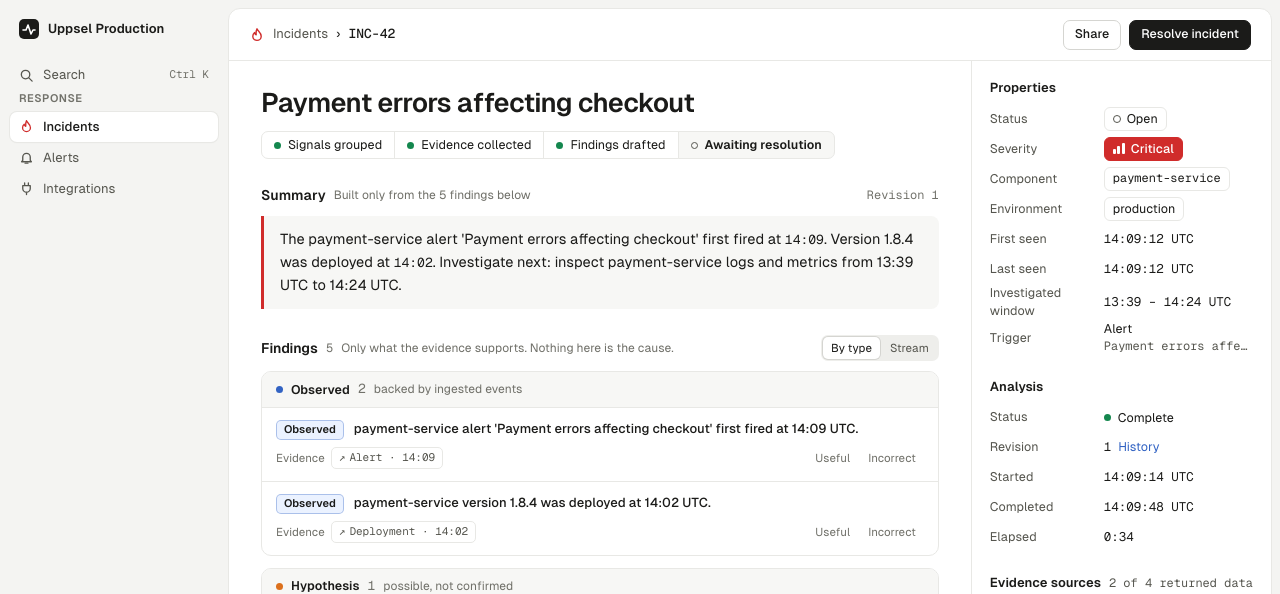
Scenario: incident detail › resolve needs a note, then posts it
This screenshot has width=1280, height=594.
Click the button "Resolve incident" at (1190, 34), box [1129,20,1251,50]
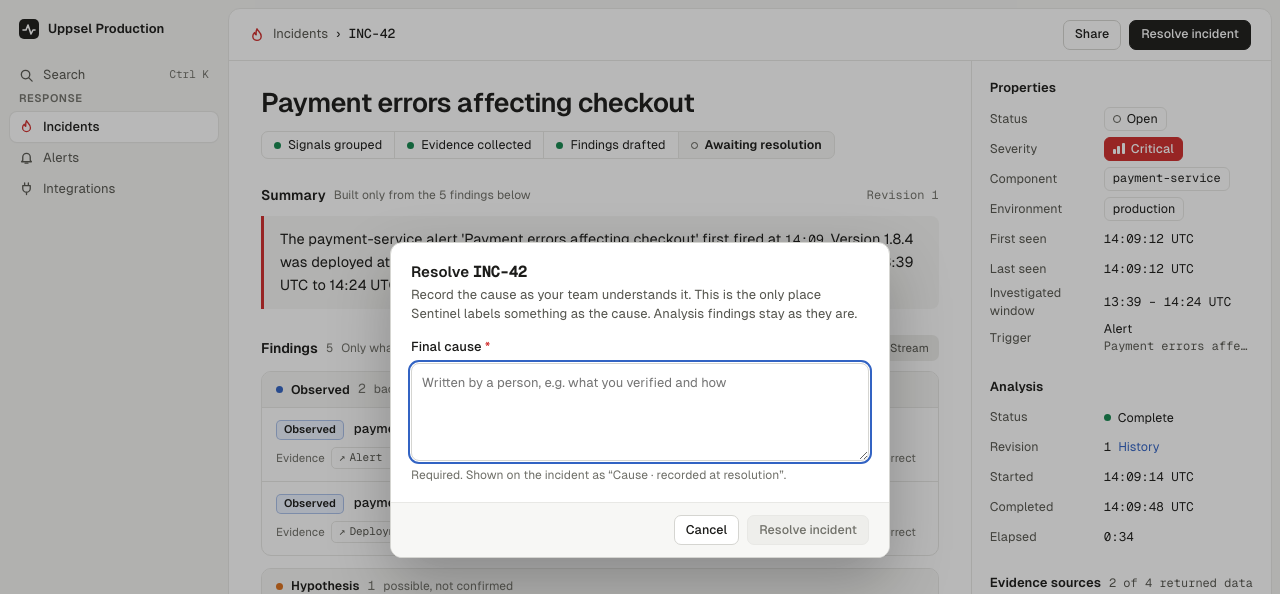
Result: the button "Resolve incident" is disabled at [747,515,869,545]
Type "Gateway timeout lowered in 1.8.4" into the text box labelled "Final cause *" at (640, 412), box [411,363,869,461]
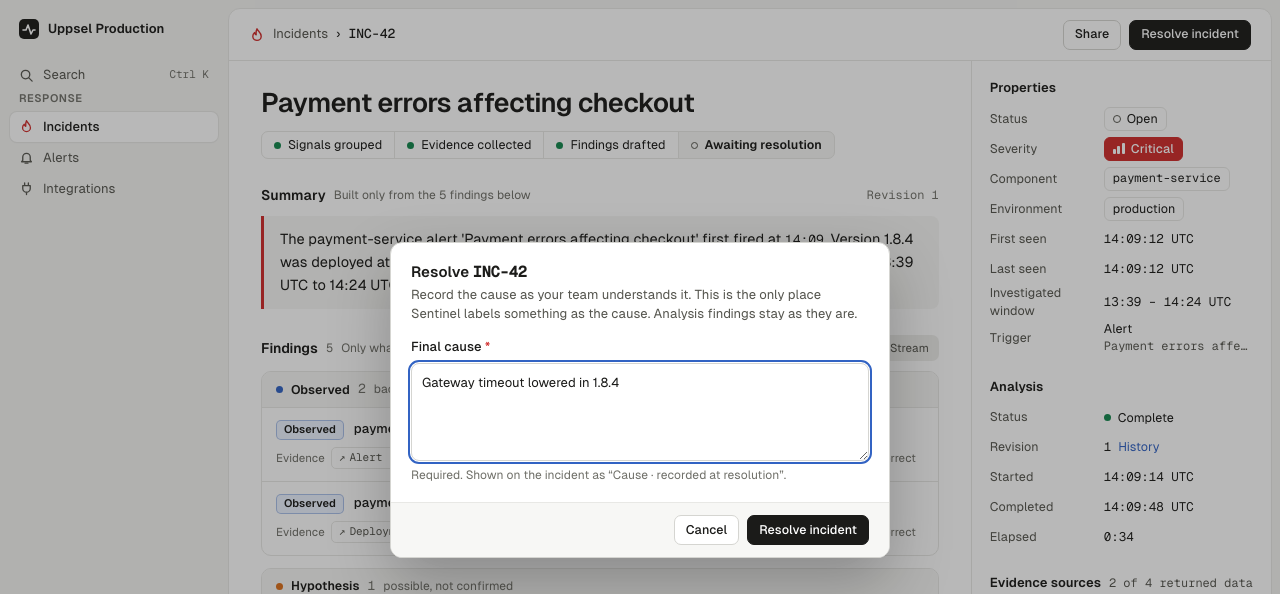
Click the button "Resolve incident" at (808, 530), box [747,515,869,545]
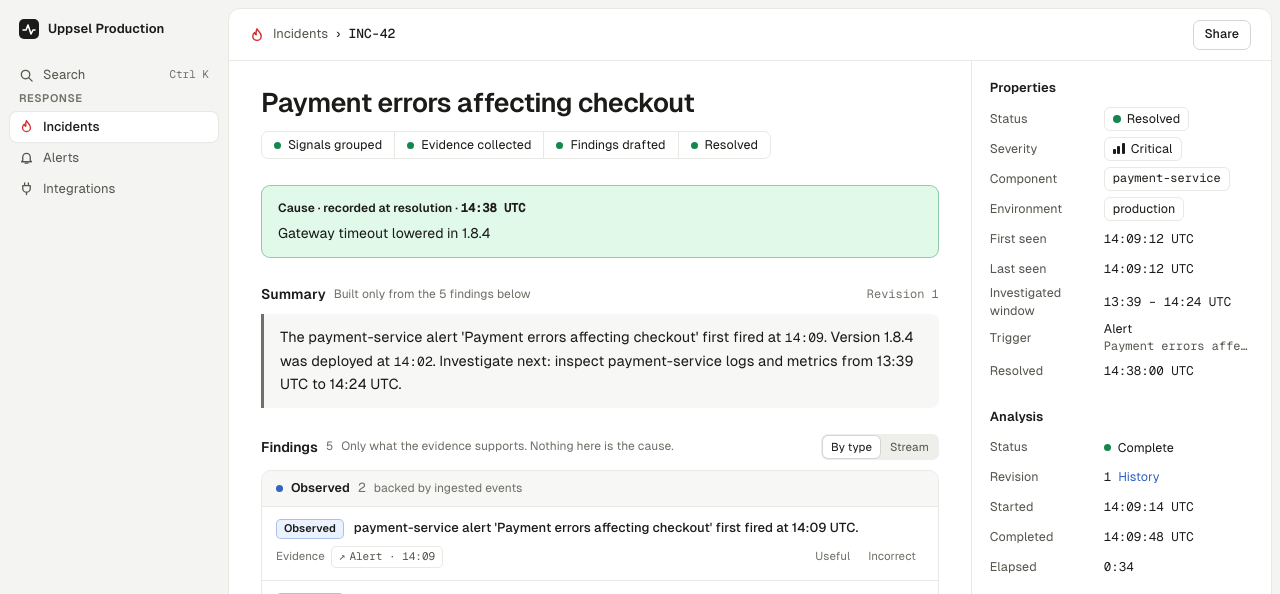
Result: the dialog is gone
Result: the text "Cause · recorded at resolution · 14:38 UTC" is shown at [278,200,526,216]
Result: the button "Resolve incident" is gone
